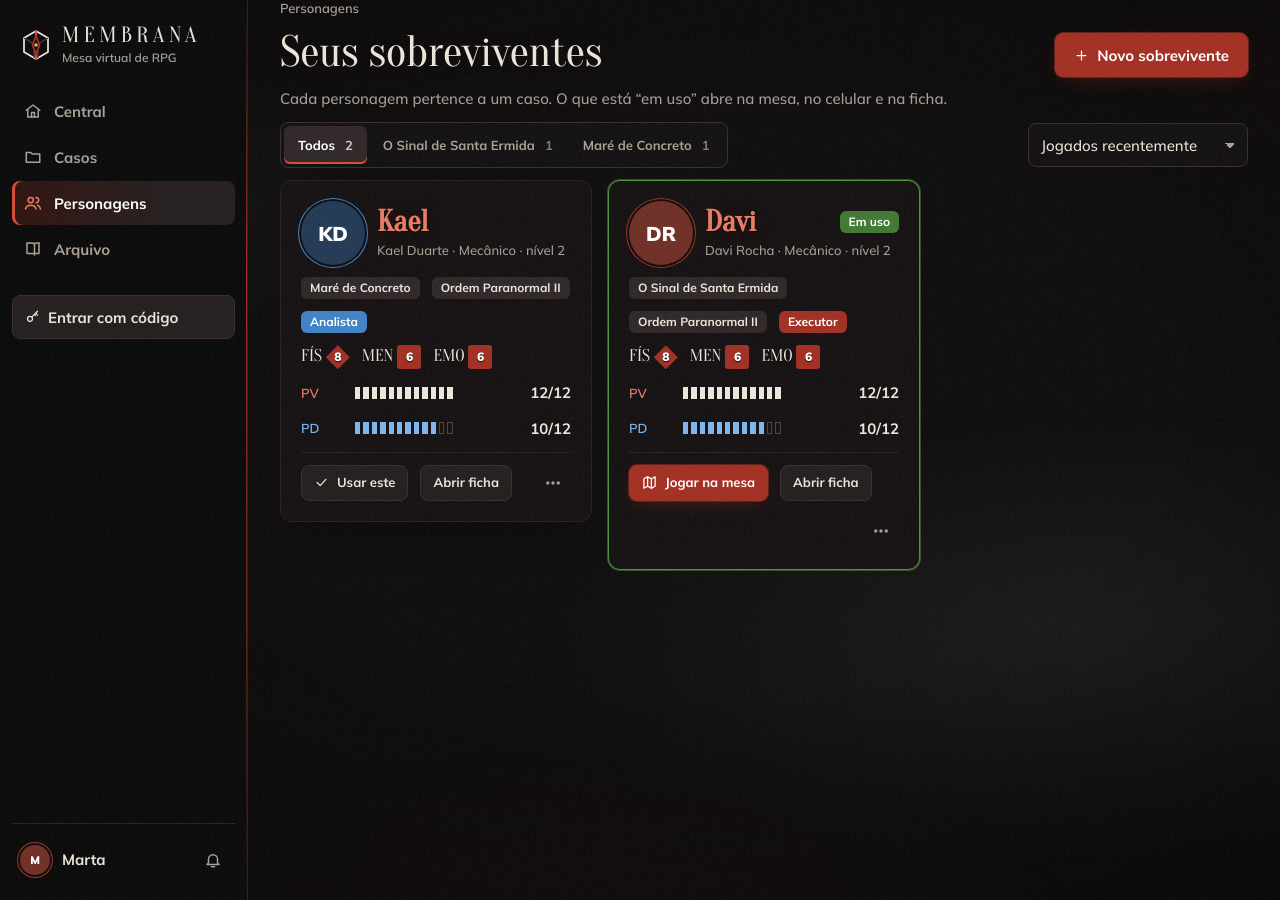
Test: Remover › "Desfazer" traz o personagem de volta e não apaga nada
Expected: the element "Davi" is shown, [608,180,920,570]
Step 1. Click the button named "Mais ações para Davi" → (881, 531), box [863,513,899,549]
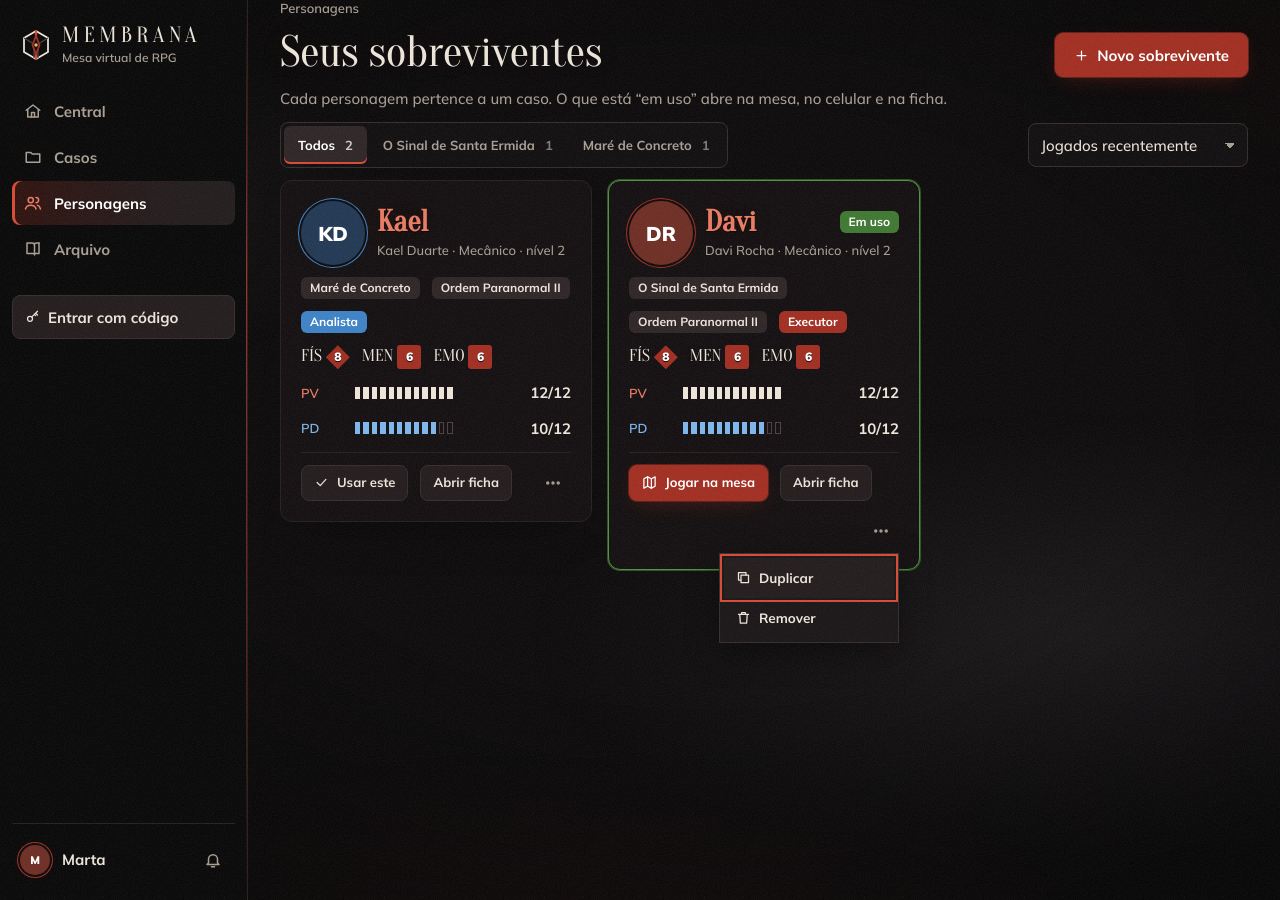
Step 2. Click the menu item "Remover" → (809, 618), box [724,598,894,638]
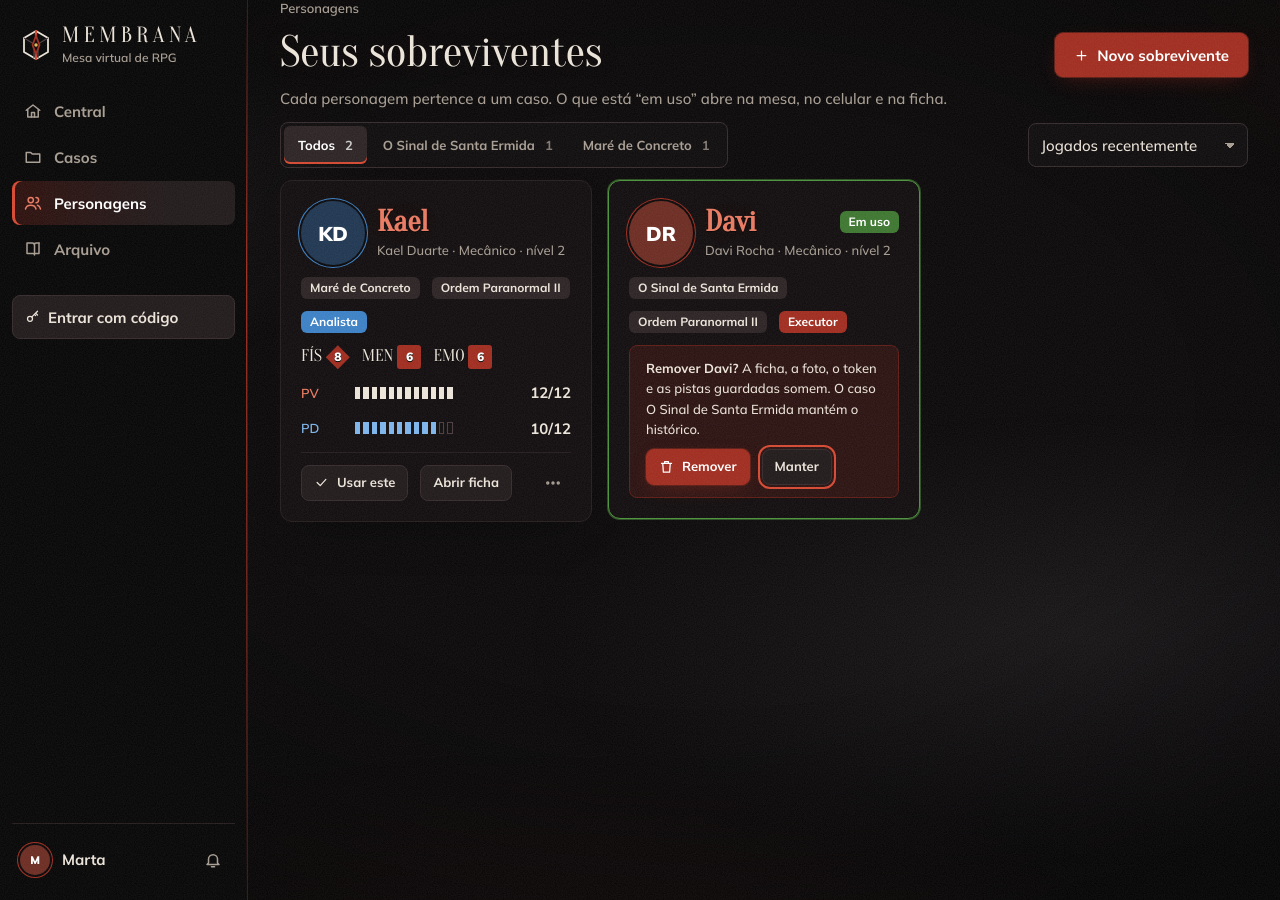
Step 3. Click the button "Remover" → (698, 467), box [646,449,750,485]
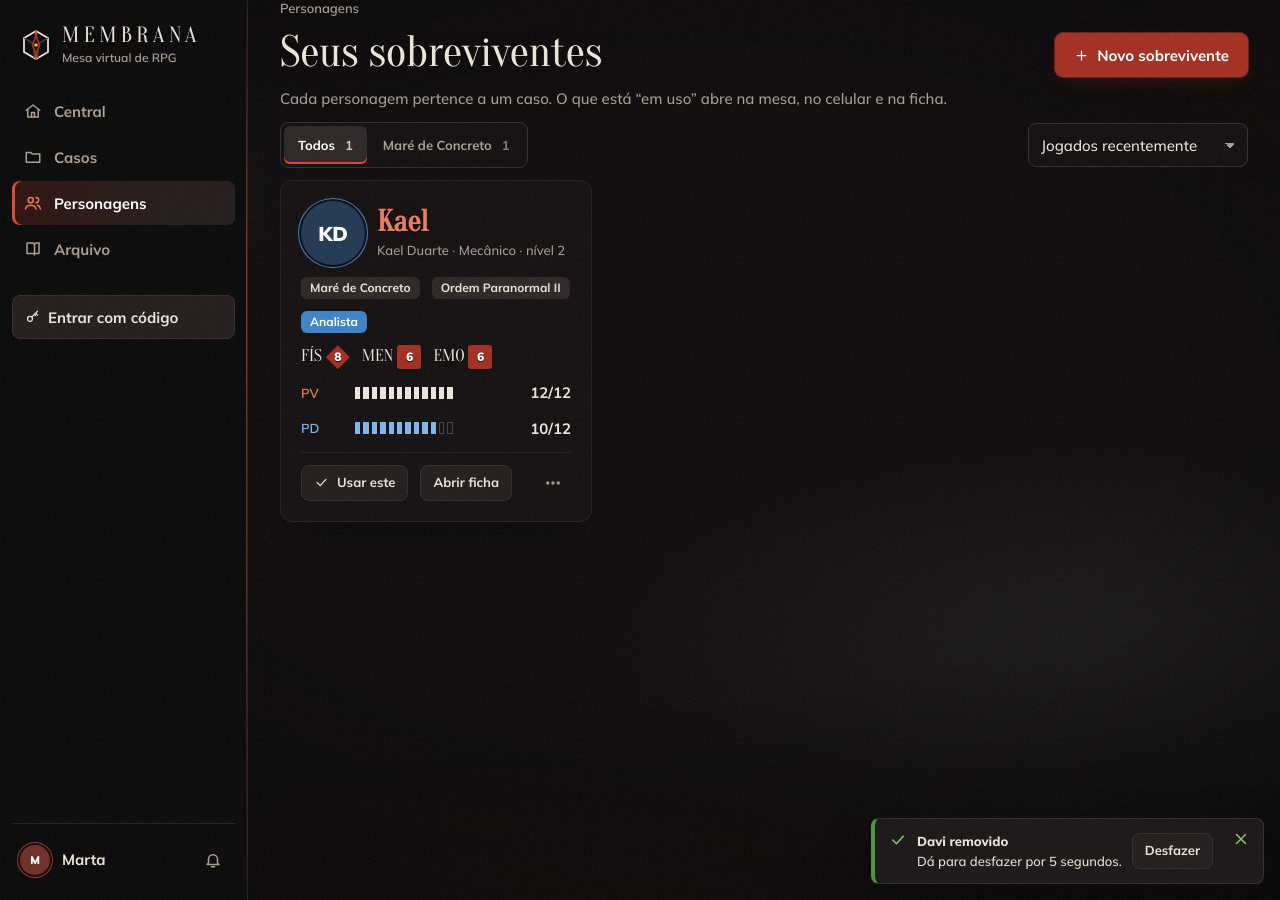
Step 4. Click the button "Desfazer" → (1172, 851), box [1132,833,1213,869]
Wait 10000 ms
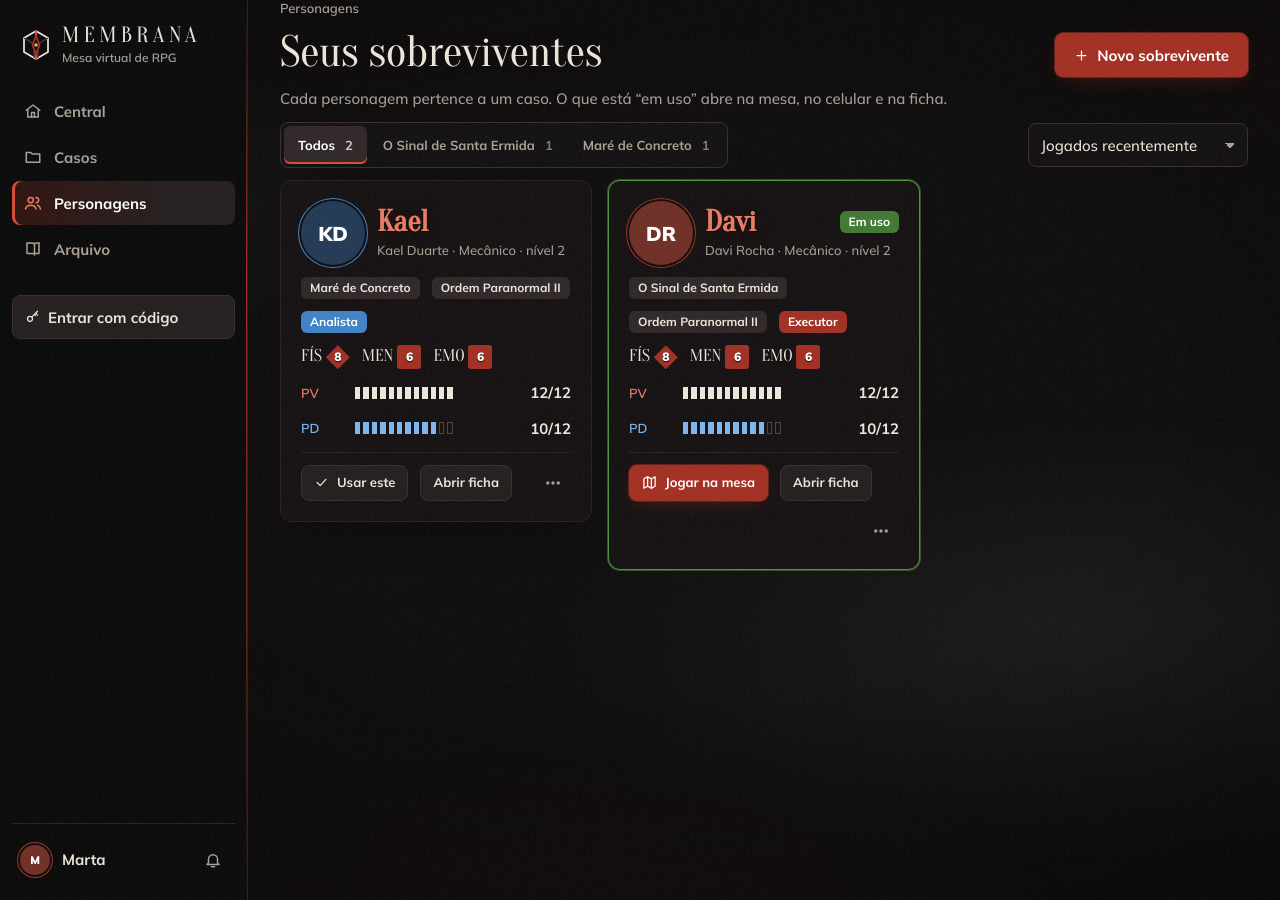
Now the element "Davi" is shown, box [608,180,920,570]
